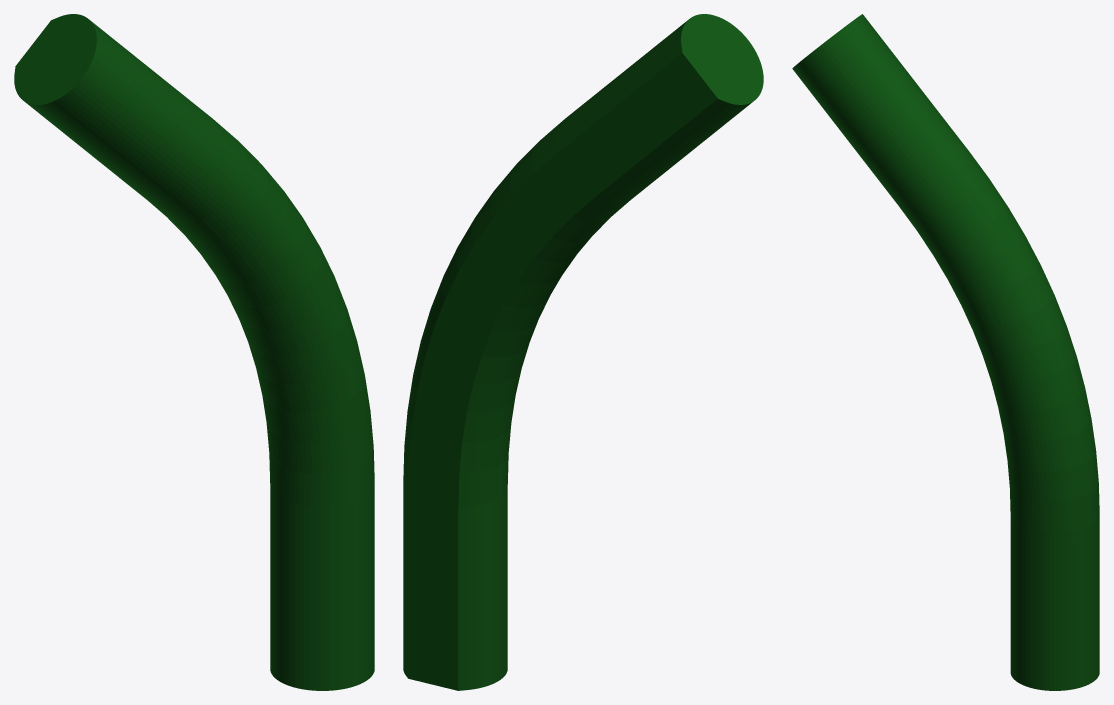
File: stem_1B_45L.glb
3 views of the same model, side by side, from view 1: azimuth 30°, elevation 25°; view 2: azimuth 150°, elevation 25°; view 3: azimuth 330°, elevation 25° (orthographic). The views are drawn at different scales.
Parts seen in each view (by area): view 1: stem_1B_45L; view 2: stem_1B_45L; view 3: stem_1B_45L.
Boxes of the visible parts, left/top/right/bottom form: stem_1B_45L: left=14, top=14, right=374, bottom=690; stem_1B_45L: left=403, top=14, right=763, bottom=690; stem_1B_45L: left=792, top=14, right=1099, bottom=690.
Bounding box in the file's own units: 0.0274 × 0.0538 × 0.00666.
